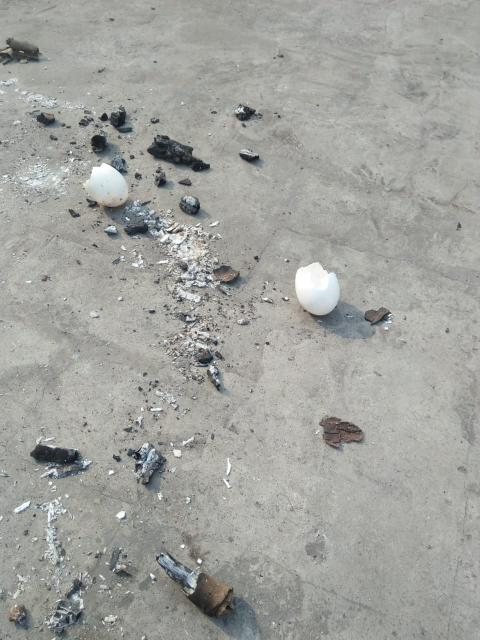Roto: (294, 261, 340, 316), (82, 162, 128, 208)
